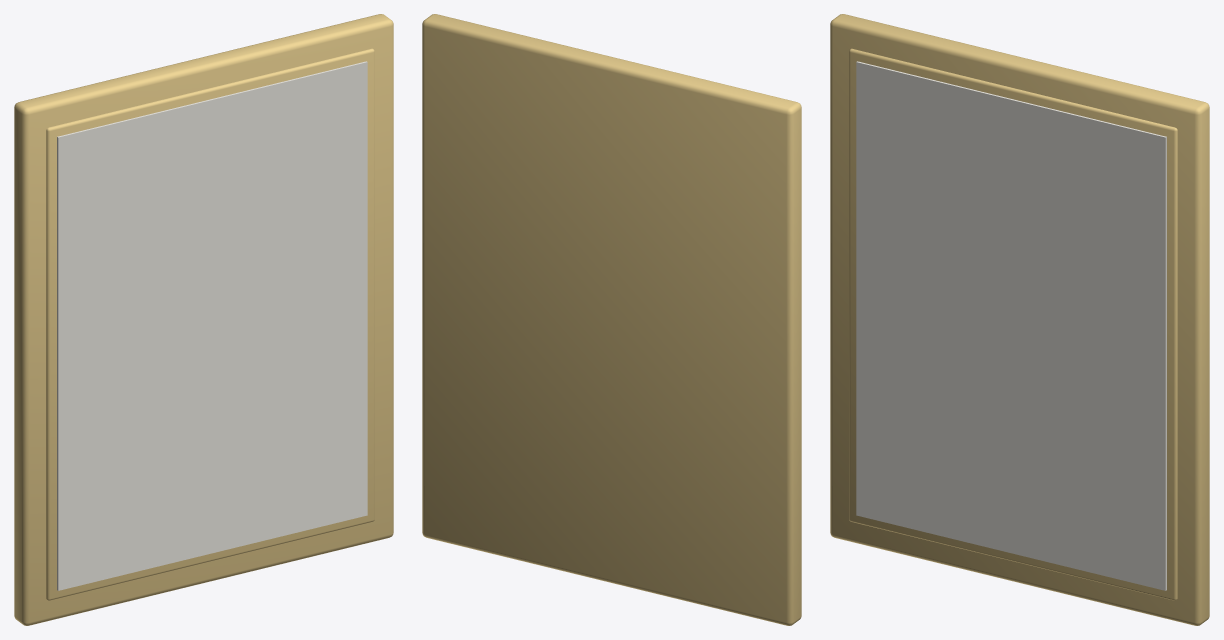
The model's file is art_portrait.glb.
3 views of the same model, side by side, from view 1: azimuth 30°, elevation 25°; view 2: azimuth 150°, elevation 25°; view 3: azimuth 330°, elevation 25° (orthographic).
Visible parts, largest first — view 1: canvas, frame, inner; view 2: frame; view 3: canvas, frame, inner.
Part boxes in pixels (x1=…): canvas: x1=57, y1=61, x2=367, y2=590; frame: x1=14, y1=14, x2=393, y2=625; inner: x1=46, y1=48, x2=374, y2=600; frame: x1=422, y1=14, x2=801, y2=625; canvas: x1=856, y1=61, x2=1166, y2=590; frame: x1=830, y1=14, x2=1209, y2=625; inner: x1=849, y1=48, x2=1177, y2=600.
Bounding box in the file's own units: 0.6 × 0.8 × 0.0425.
